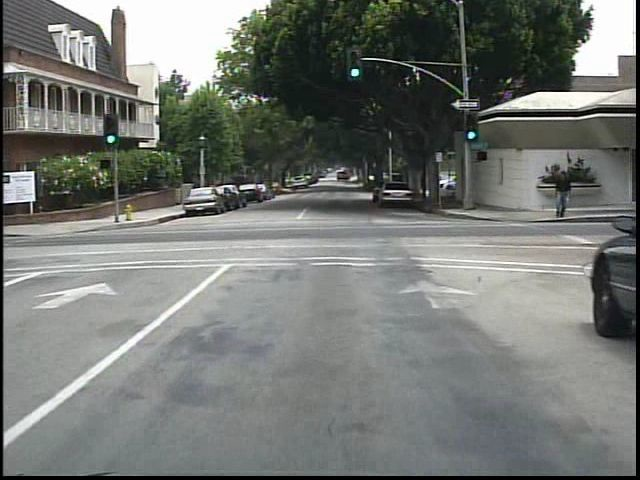person: (545, 168, 574, 221)
